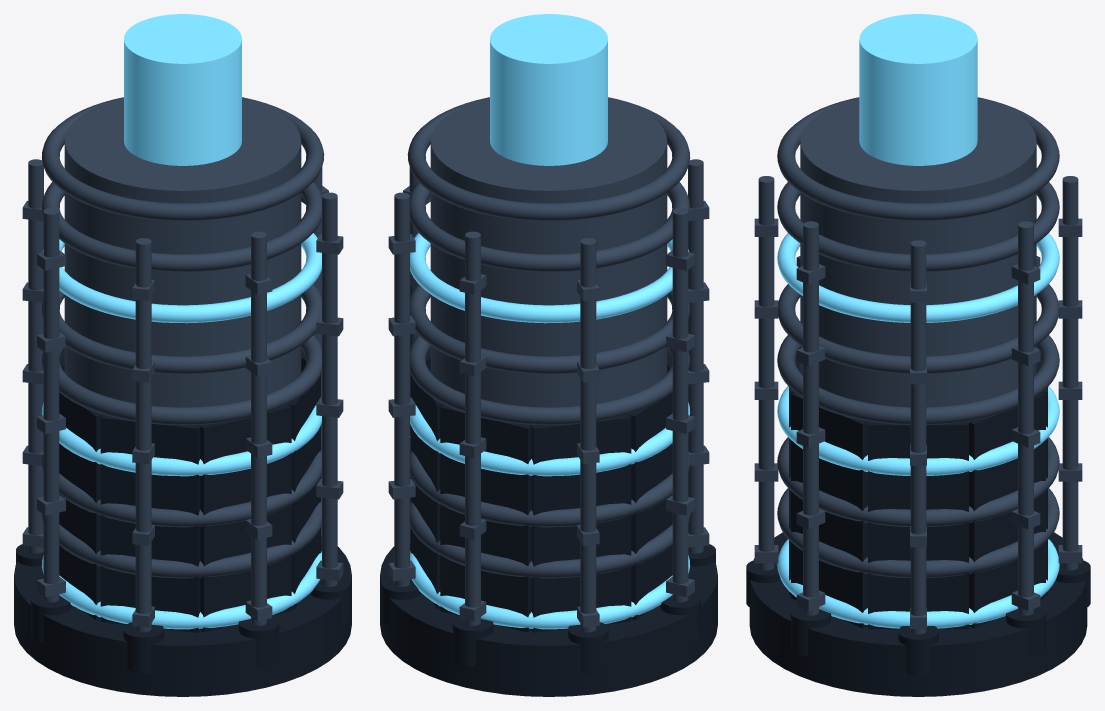
File: engine.glb
3 renders of one model, left to right at view 1: azimuth 30°, elevation 25°; view 2: azimuth 150°, elevation 25°; view 3: azimuth 270°, elevation 25°, orthographic.
Parts seen in each view (by area): view 1: Gray Ring original segmented thrust tower; view 2: Gray Ring original segmented thrust tower; view 3: Gray Ring original segmented thrust tower.
Part boxes in pixels (x1,y1,x2,y2): Gray Ring original segmented thrust tower: (14,14,351,696); Gray Ring original segmented thrust tower: (380,14,717,696); Gray Ring original segmented thrust tower: (746,14,1090,696).
Size of the model in its own units: 6.12 by 11.5 by 6.12.
